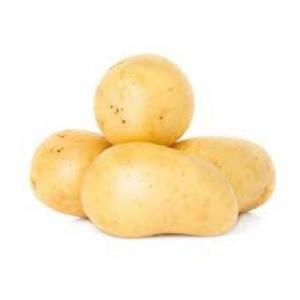potato: (82, 144, 236, 238), (92, 54, 194, 144), (172, 137, 276, 213), (30, 130, 112, 218)
